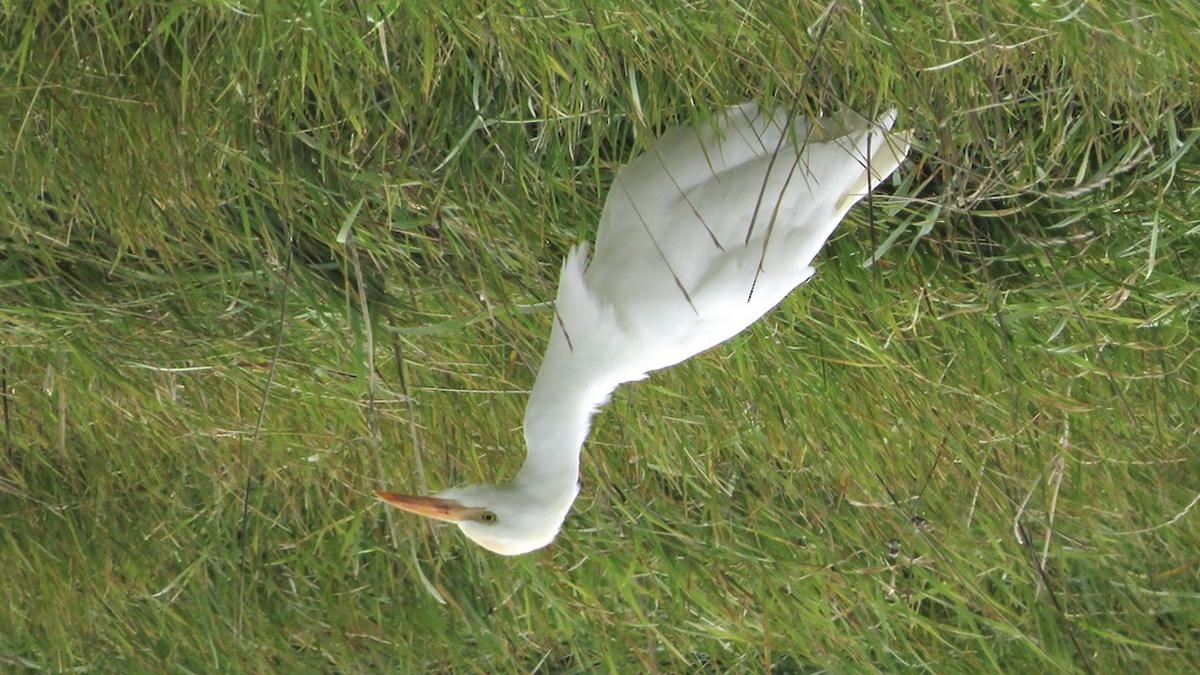egret: (346, 86, 904, 560)
